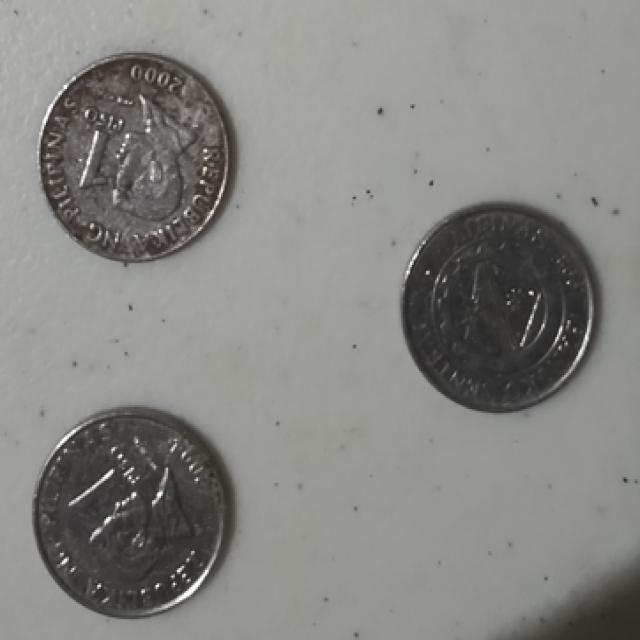1_peso: (401, 203, 594, 409), (34, 409, 225, 615), (37, 55, 228, 259)
